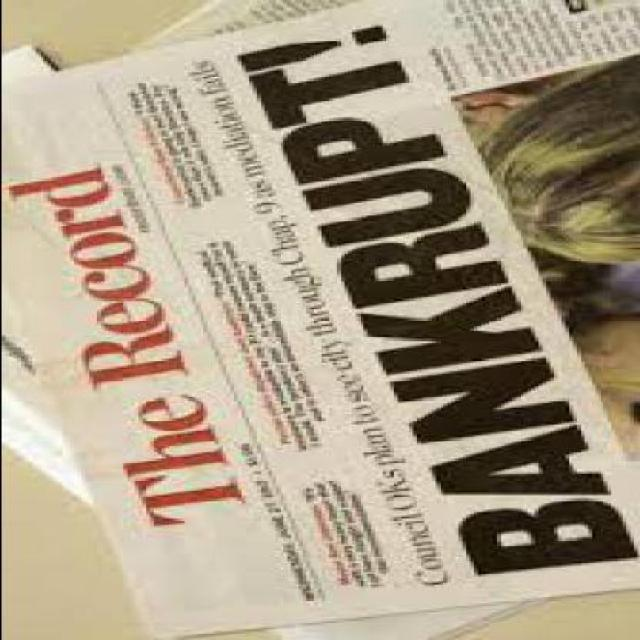paper: (0, 3, 637, 640), (122, 3, 529, 640), (2, 46, 122, 528)
